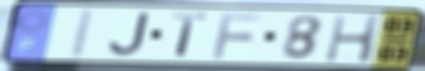8: (280, 14, 324, 61)
F: (209, 11, 267, 61)
H: (322, 13, 384, 65)
I: (65, 6, 98, 61)
J: (106, 11, 152, 58)
T: (171, 11, 211, 59)
